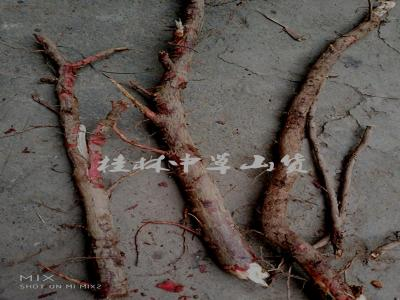Root: (260, 0, 395, 300), (134, 0, 262, 282), (37, 36, 128, 297), (328, 187, 342, 253)
